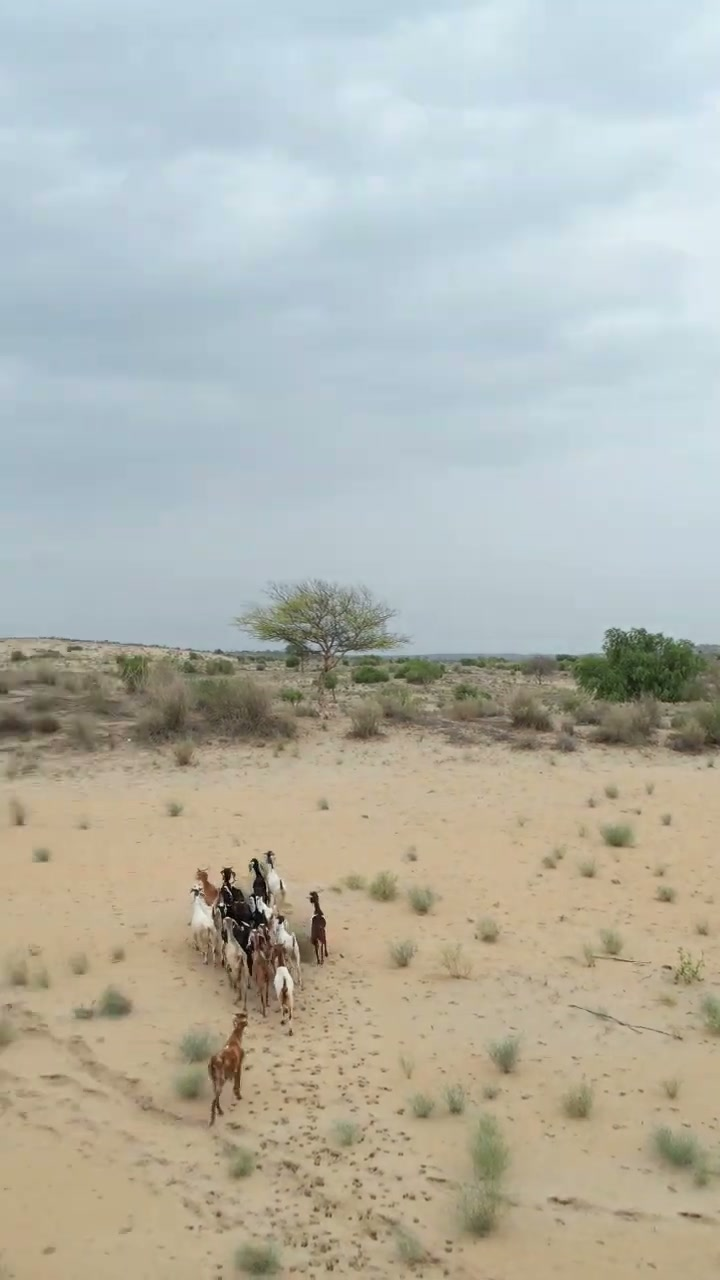animal_foot_print: (242, 965, 415, 1279)
